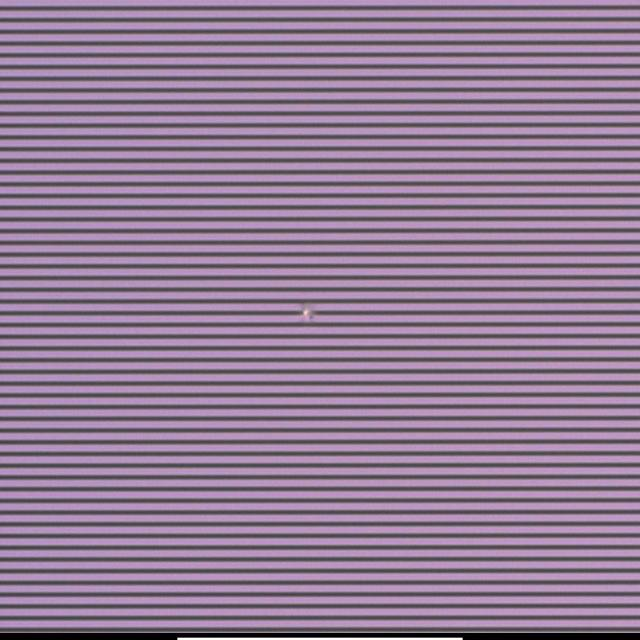nonvisual: (298, 302, 316, 323)
